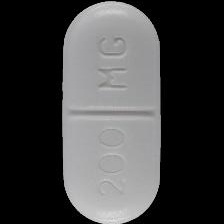55253-802: (0, 0, 224, 224)
